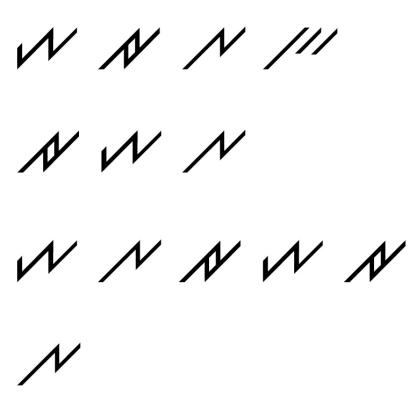la: (179, 116, 248, 180), (96, 229, 165, 286), (178, 17, 247, 74), (17, 334, 85, 389)
ra: (176, 233, 247, 292), (96, 16, 163, 74), (14, 125, 81, 182), (342, 236, 407, 288)
ya: (10, 18, 82, 77), (257, 231, 330, 286), (12, 230, 82, 284), (92, 125, 167, 171)
